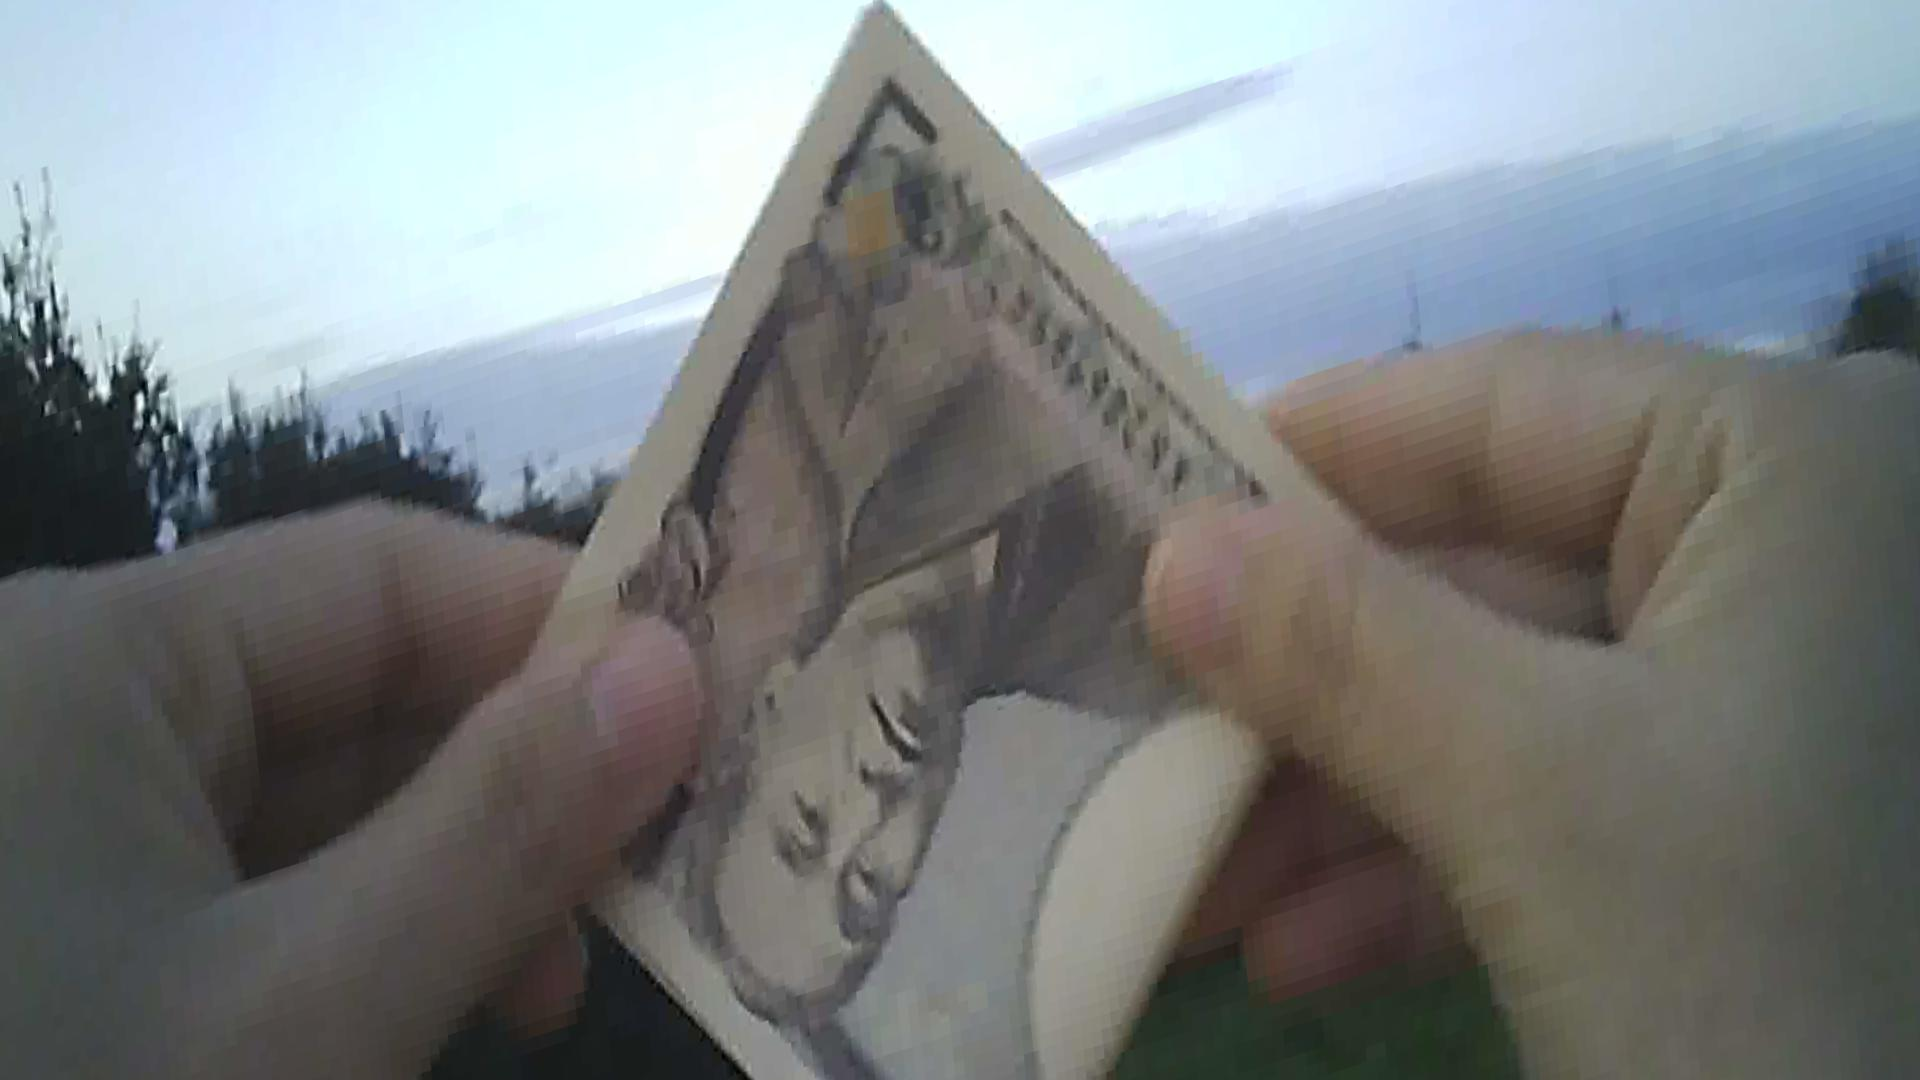10,000 Yen: (502, 15, 1348, 1071)
